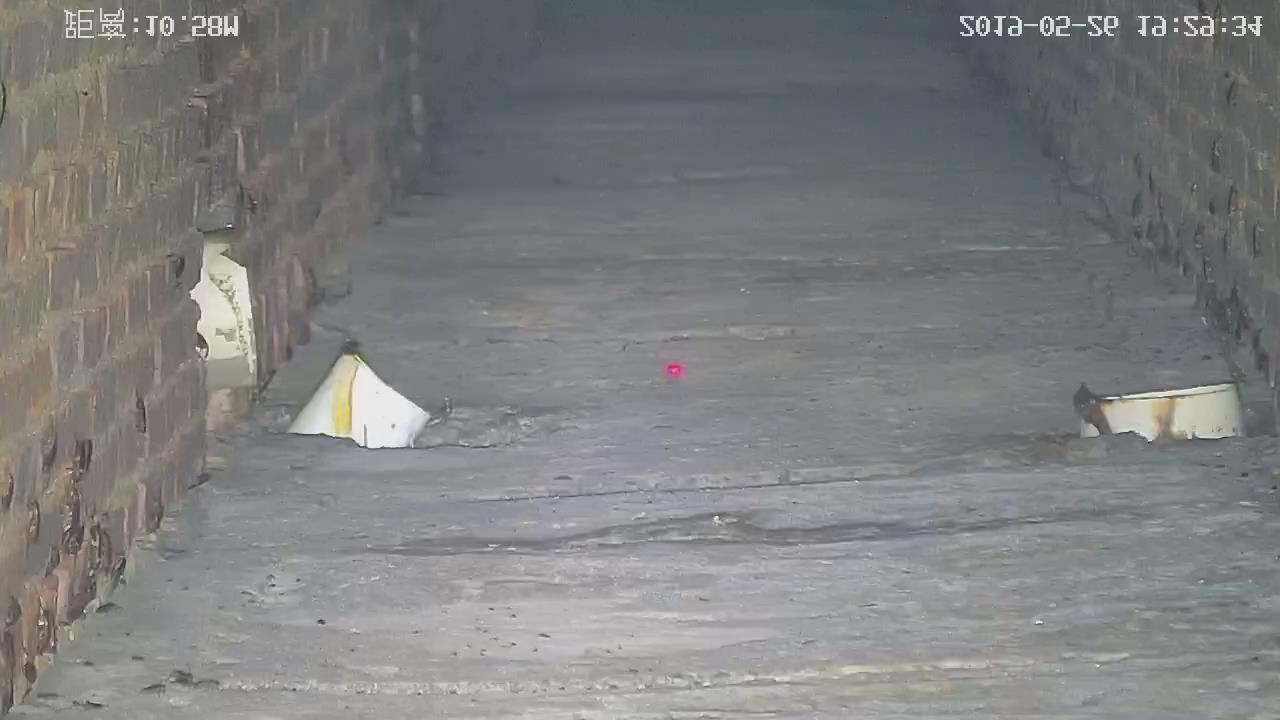ZGAJ: (288, 352, 430, 448), (1074, 383, 1247, 442), (190, 240, 258, 388)
